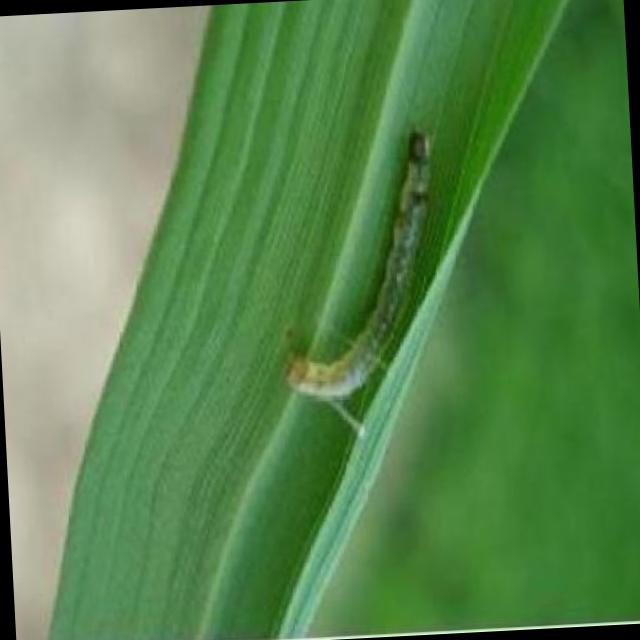leaf-folder: (258, 121, 471, 452)
